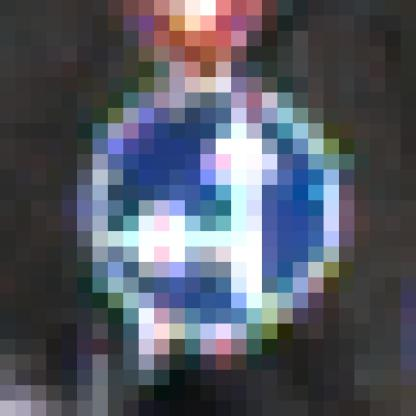Straight or Left: (78, 78, 340, 340)
